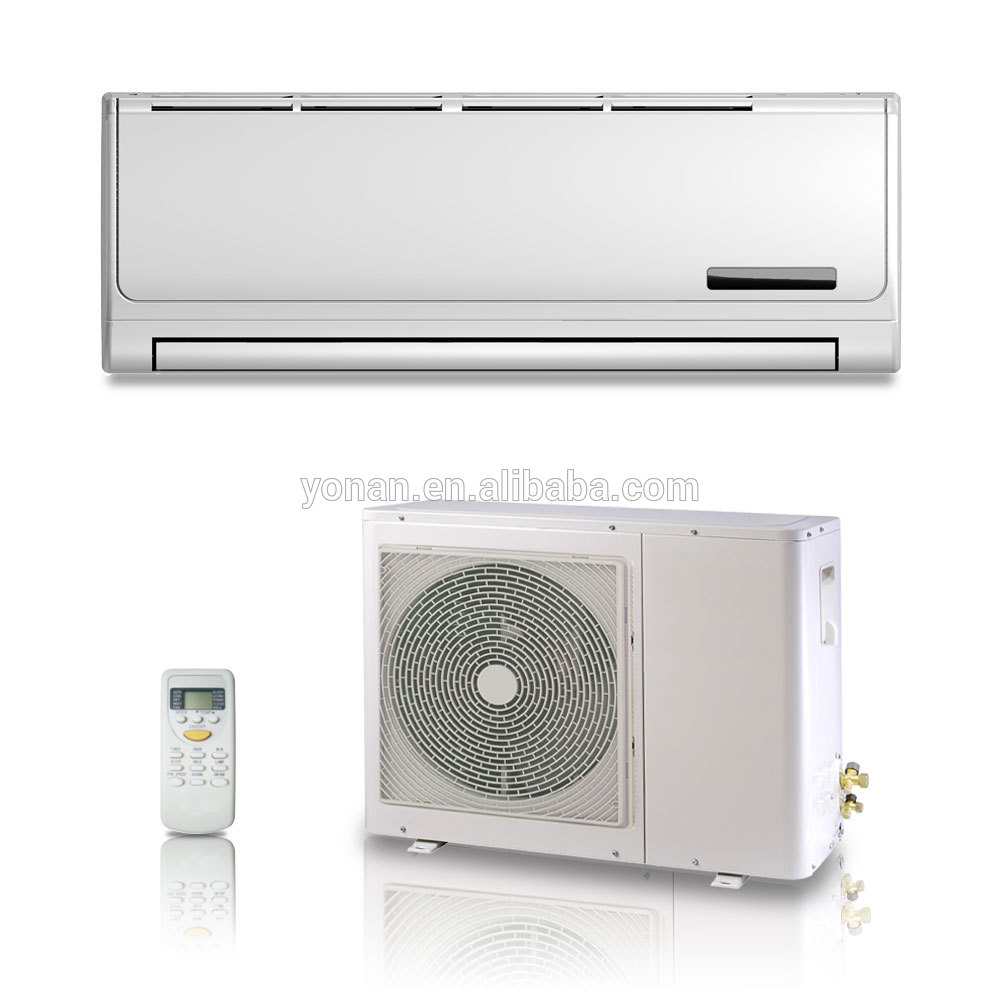ac: (89, 81, 918, 398)
